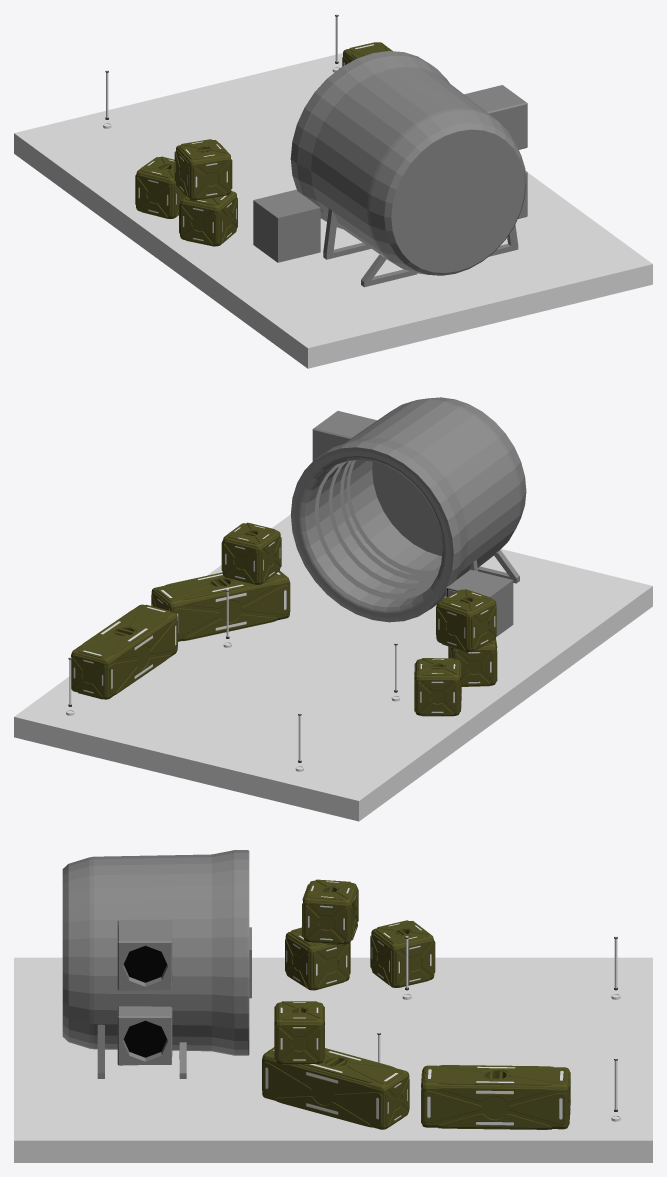
The model's file is Portal_Crates.fbx.
3 renders of one model, top to bottom at view 1: azimuth 30°, elevation 25°; view 2: azimuth 150°, elevation 25°; view 3: azimuth 270°, elevation 25°, orthographic. The views are drawn at different scales.
Visible parts, largest first — view 1: Cube, Cylinder, Crate Short.002, Crate Short.003, Crate Short.001, Crate Long.001; view 2: Cube, Cylinder, Crate Long.001, Crate Long, Crate Short.002, Crate Short, Crate Short.001, Crate Short.003; view 3: Cube, Cylinder, Crate Long.001, Crate Long, Crate Short.001, Crate Short.002, Crate Short, Crate Short.003.
Part boxes in pixels (x1,y1,x2,y2): Cube: (14, 53, 652, 368); Cylinder: (253, 51, 527, 287); Crate Short.002: (174, 139, 232, 200); Crate Short.003: (179, 190, 237, 246); Crate Short.001: (135, 156, 185, 218); Crate Long.001: (342, 42, 392, 66); Cube: (14, 514, 652, 821); Cylinder: (290, 397, 526, 636); Crate Long.001: (71, 604, 177, 699); Crate Long: (151, 571, 290, 641); Crate Short.002: (436, 589, 496, 652); Crate Short: (221, 522, 281, 584); Crate Short.001: (414, 658, 461, 716); Crate Short.003: (448, 637, 497, 686); Cube: (14, 957, 652, 1162); Cylinder: (62, 850, 251, 1078); Crate Long.001: (421, 1065, 570, 1129); Crate Long: (262, 1047, 409, 1129); Crate Short.001: (370, 920, 435, 987); Crate Short.002: (302, 879, 358, 945); Crate Short: (274, 1001, 324, 1064); Crate Short.003: (285, 927, 350, 990).
Bounding box in the file's own units: 1762 × 950 × 2598.
